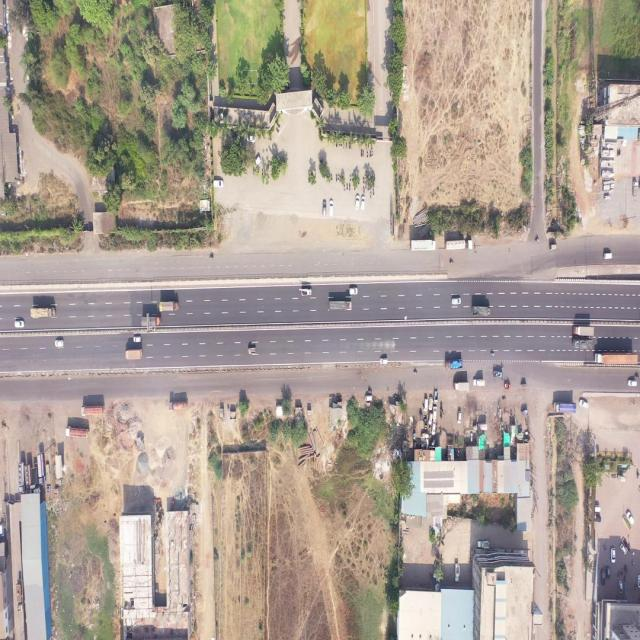3W: (478, 422, 488, 431), (521, 408, 528, 416), (550, 244, 557, 250), (504, 383, 511, 389), (521, 382, 527, 388)
Cars: (579, 398, 588, 409), (626, 512, 634, 524), (620, 543, 627, 556), (247, 134, 256, 143), (354, 194, 359, 210), (54, 339, 64, 347), (14, 320, 24, 328), (379, 357, 388, 365), (349, 288, 358, 296), (214, 180, 224, 187), (628, 380, 638, 387), (457, 410, 462, 424), (329, 199, 333, 216), (611, 547, 615, 564), (618, 581, 623, 594), (604, 252, 612, 260), (424, 398, 428, 414), (429, 396, 433, 412), (432, 420, 436, 436), (452, 298, 461, 305), (254, 157, 260, 167), (594, 515, 601, 523), (606, 566, 610, 580), (601, 570, 605, 584), (323, 200, 326, 218), (361, 197, 365, 210), (0, 524, 4, 536), (637, 574, 640, 588), (366, 395, 372, 401), (594, 506, 600, 512), (134, 337, 141, 342)
LCV: (477, 540, 490, 549), (298, 288, 312, 296), (473, 379, 485, 387), (632, 180, 637, 197), (456, 564, 460, 582), (493, 372, 503, 378), (434, 390, 438, 404), (248, 349, 256, 353)
M2W: (449, 259, 455, 265), (534, 237, 540, 243), (348, 183, 351, 192), (330, 173, 333, 182), (616, 152, 621, 157), (635, 374, 640, 379), (210, 254, 214, 260), (500, 364, 504, 370), (349, 175, 352, 182), (276, 127, 279, 134), (490, 352, 494, 357), (363, 186, 365, 194), (339, 174, 341, 182), (413, 371, 418, 374), (372, 188, 374, 195), (346, 183, 348, 190), (338, 173, 340, 180), (262, 168, 264, 174), (368, 390, 372, 393), (336, 173, 337, 182), (363, 176, 364, 184), (344, 184, 345, 192), (349, 141, 350, 149), (371, 192, 372, 199), (341, 142, 342, 148), (346, 142, 347, 148), (336, 143, 337, 148), (368, 187, 368, 191)
MAV: (594, 352, 638, 366), (410, 240, 436, 251), (66, 426, 88, 439), (81, 405, 104, 416), (445, 240, 473, 249), (37, 453, 44, 487), (18, 463, 25, 492), (16, 584, 23, 612), (168, 402, 188, 411)
Truck: (553, 401, 577, 414), (30, 308, 55, 318), (472, 305, 491, 317), (329, 301, 351, 311), (574, 338, 592, 350), (572, 327, 594, 336), (445, 359, 463, 370), (160, 302, 179, 312), (141, 317, 161, 326), (126, 350, 142, 360), (454, 382, 469, 391)
